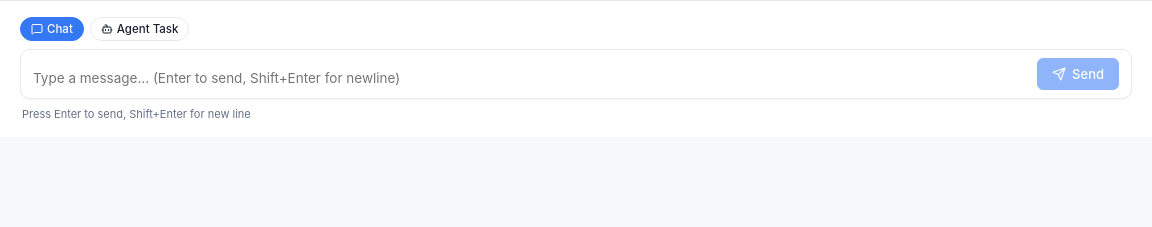
it: Renderer: ConversationComposer (Agent Task Mode & Permissions) › disables workspace folder checkbox if bot does not possess workspace tools
Step 1. Click the button with test id "composer-mode-agent-btn" → (140, 29), box [90,17,190,41]
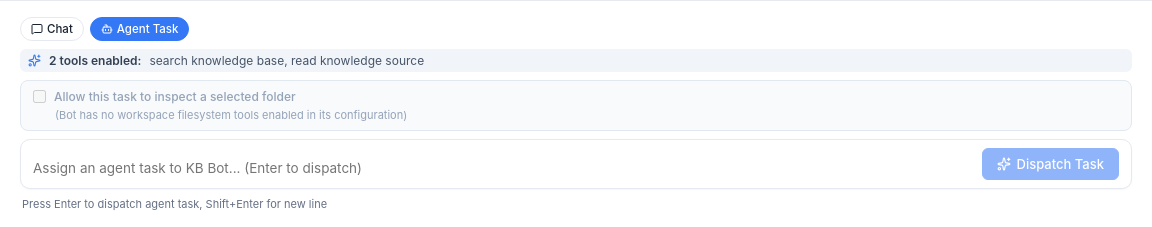
expect the checkbox with test id "workspace-access-checkbox" is disabled: met, box [33,90,46,103]
expect the checkbox with test id "workspace-access-checkbox" is not checked: met, box [33,90,46,103]
